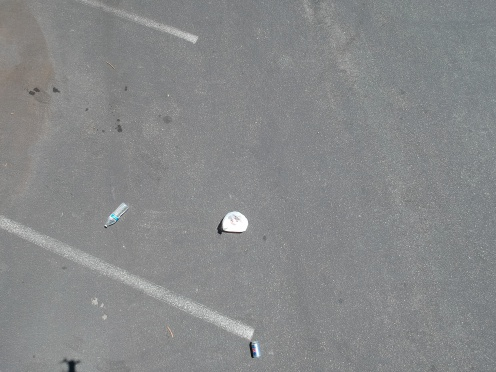bottle: (102, 201, 131, 230)
can: (246, 335, 264, 361)
plastic bag: (214, 208, 253, 238)
